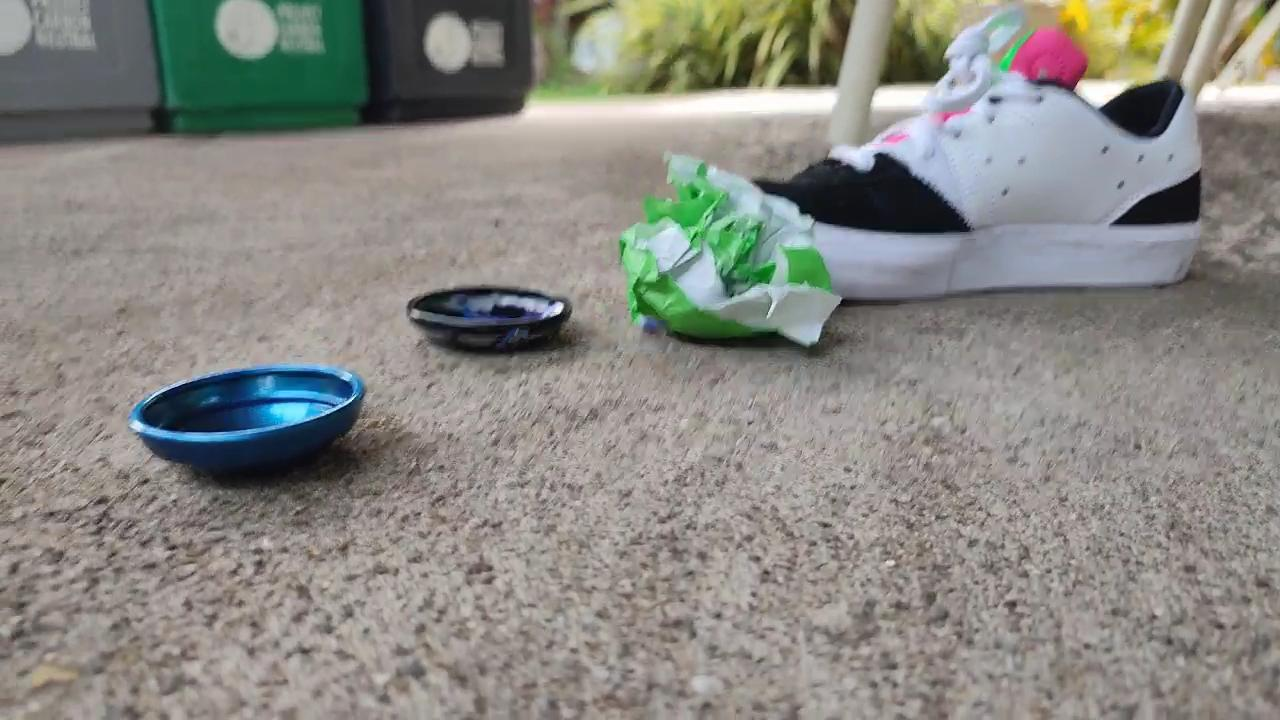Paper: (611, 144, 857, 364)
